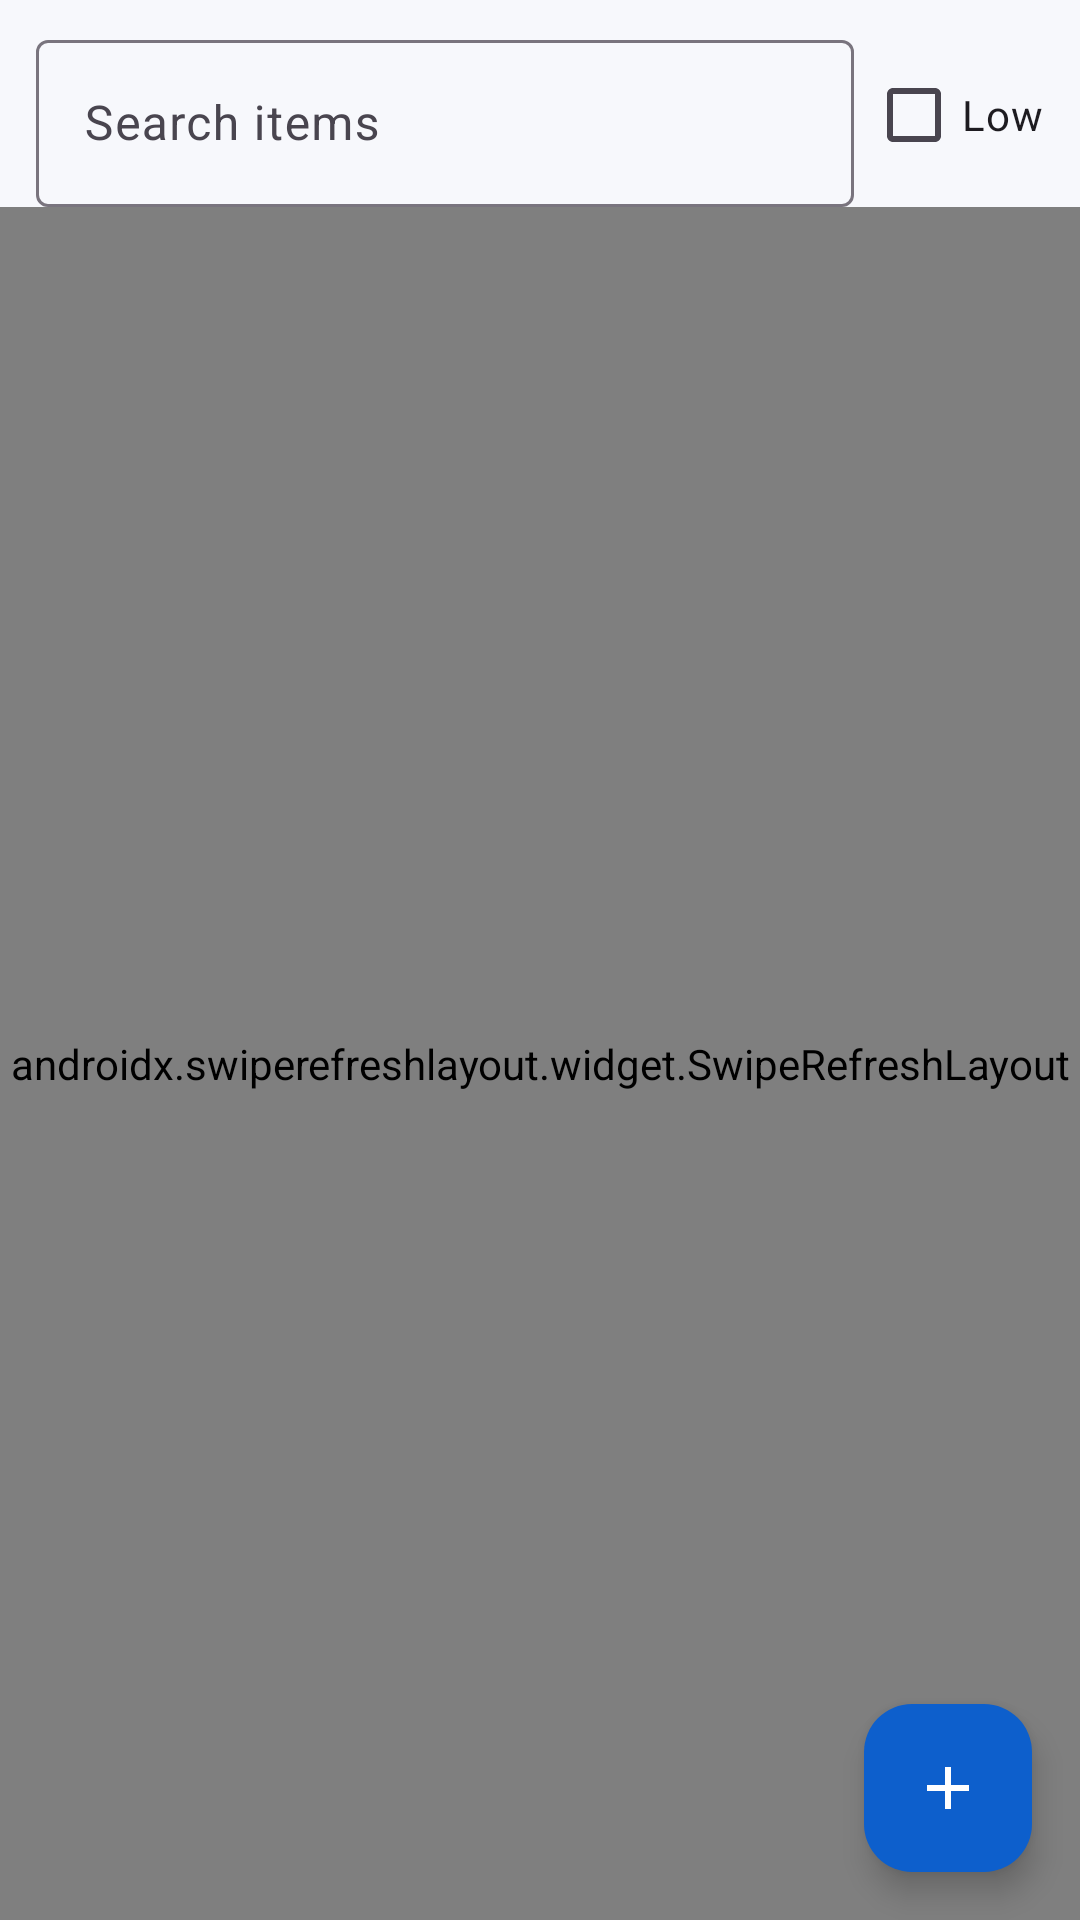

Screen size 1080w x 1920h. Icon name, then its box in pixels as BBox(x1, y1, x2, y2):
Add item: BBox(864, 1704, 1032, 1872)
